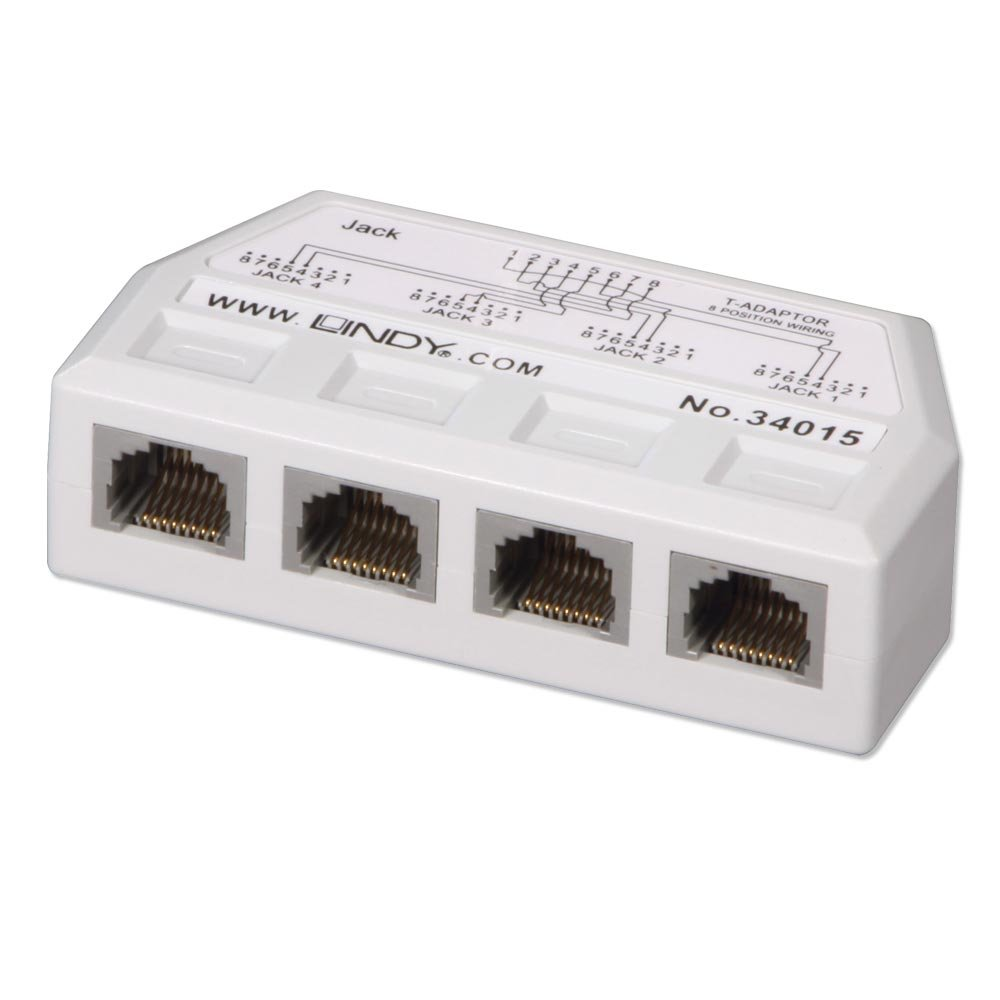lan: (278, 453, 436, 607), (665, 556, 835, 690), (471, 504, 633, 644), (92, 422, 249, 564)
